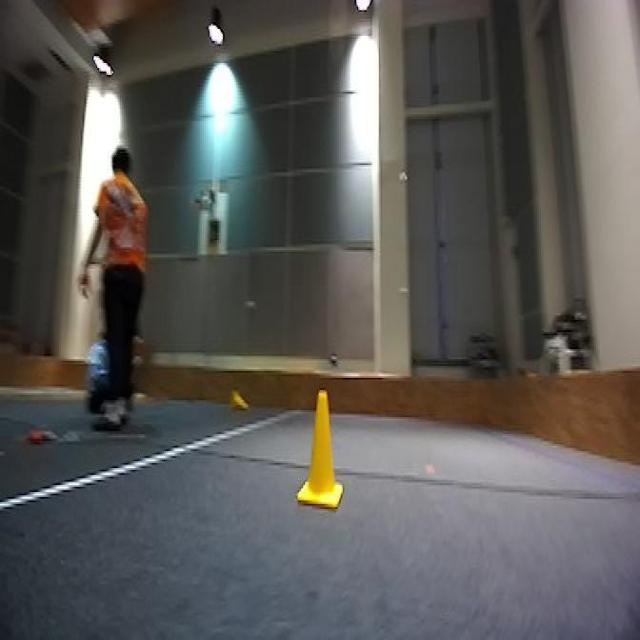frc_cone: (297, 390, 339, 507), (224, 390, 252, 412)
